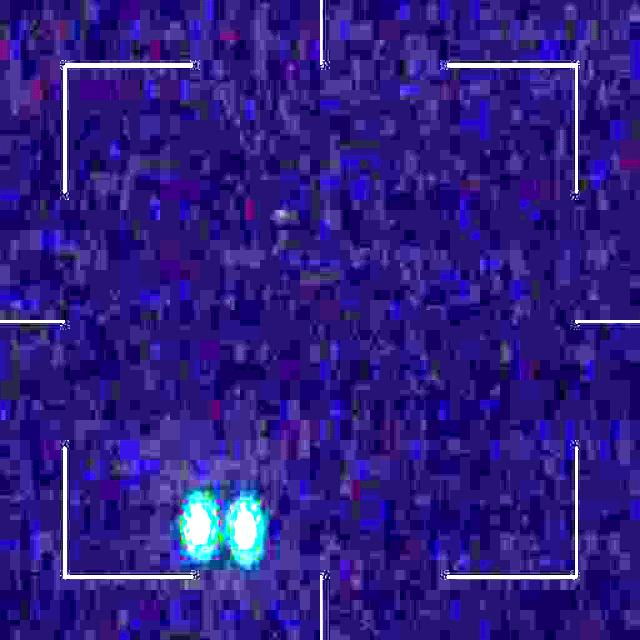bird: (185, 500, 259, 552)
